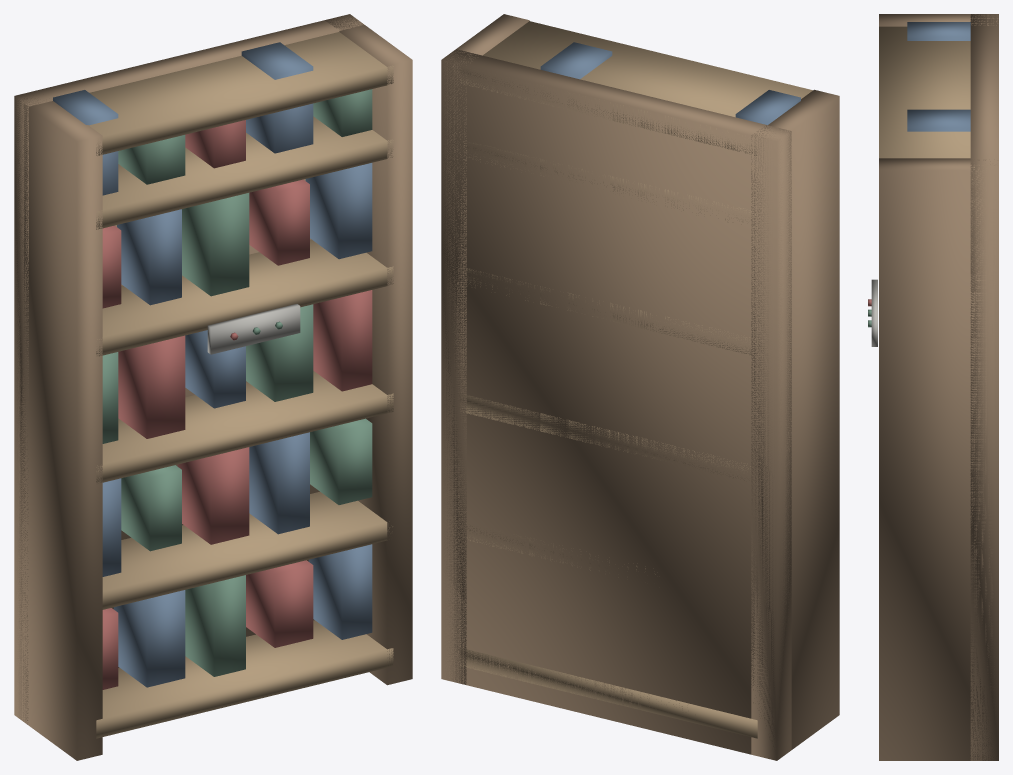
The model's file is library_stack_bay.glb.
3 renders of one model, left to right at view 1: azimuth 30°, elevation 25°; view 2: azimuth 150°, elevation 25°; view 3: azimuth 270°, elevation 25°, orthographic. The views are drawn at different scales.
Parts seen in each view (by area): view 1: world; view 2: world; view 3: world.
Part boxes in pixels (x1=…): world: x1=14, y1=14, x2=412, y2=760; world: x1=441, y1=14, x2=839, y2=760; world: x1=868, y1=14, x2=998, y2=760.
Size of the model in its own units: 1.05 by 1.86 by 0.371.
